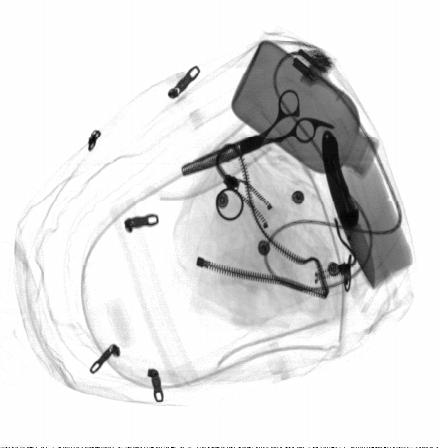Knife: (322, 128, 375, 290)
Scissors: (181, 86, 335, 177)
